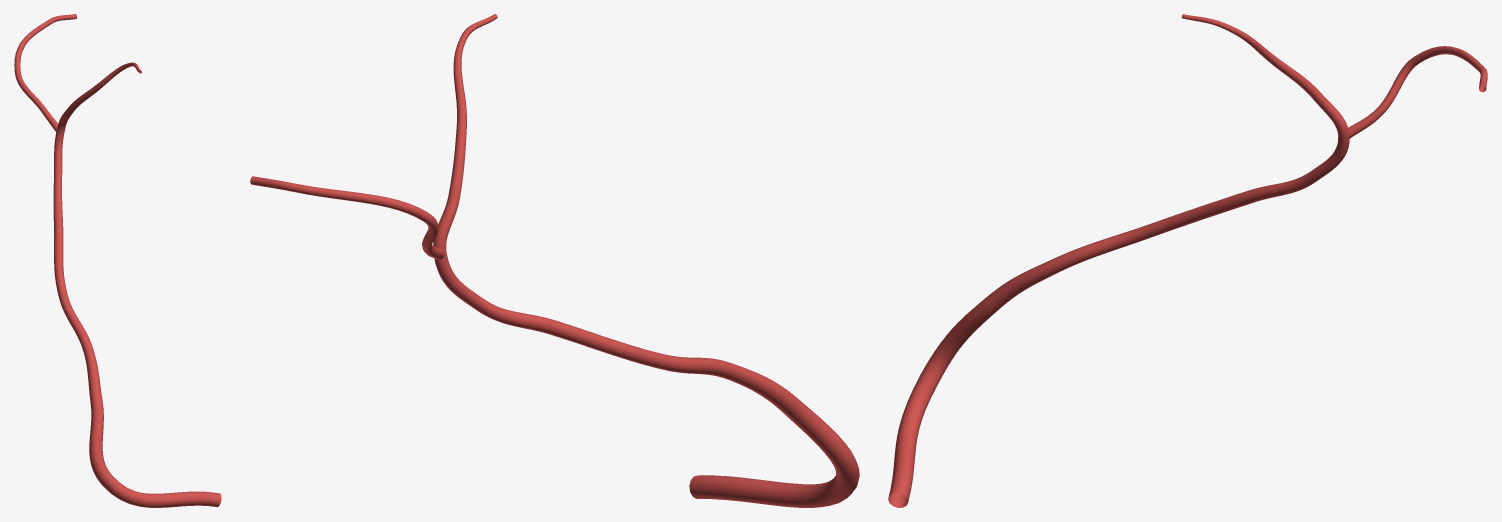
3 renders of one model, left to right at view 1: azimuth 30°, elevation 25°; view 2: azimuth 150°, elevation 25°; view 3: azimuth 270°, elevation 25°, orthographic. The views are drawn at different scales.
Parts seen in each view (by area): view 1: 右侧颞后支; view 2: 右侧颞后支; view 3: 右侧颞后支.
Part boxes in pixels (left/top/right/bottom): 右侧颞后支: left=14, top=14, right=221, bottom=507; 右侧颞后支: left=250, top=14, right=859, bottom=507; 右侧颞后支: left=888, top=14, right=1487, bottom=507.
Size of the model in its own units: 0.0287 by 0.0566 by 0.0603.
